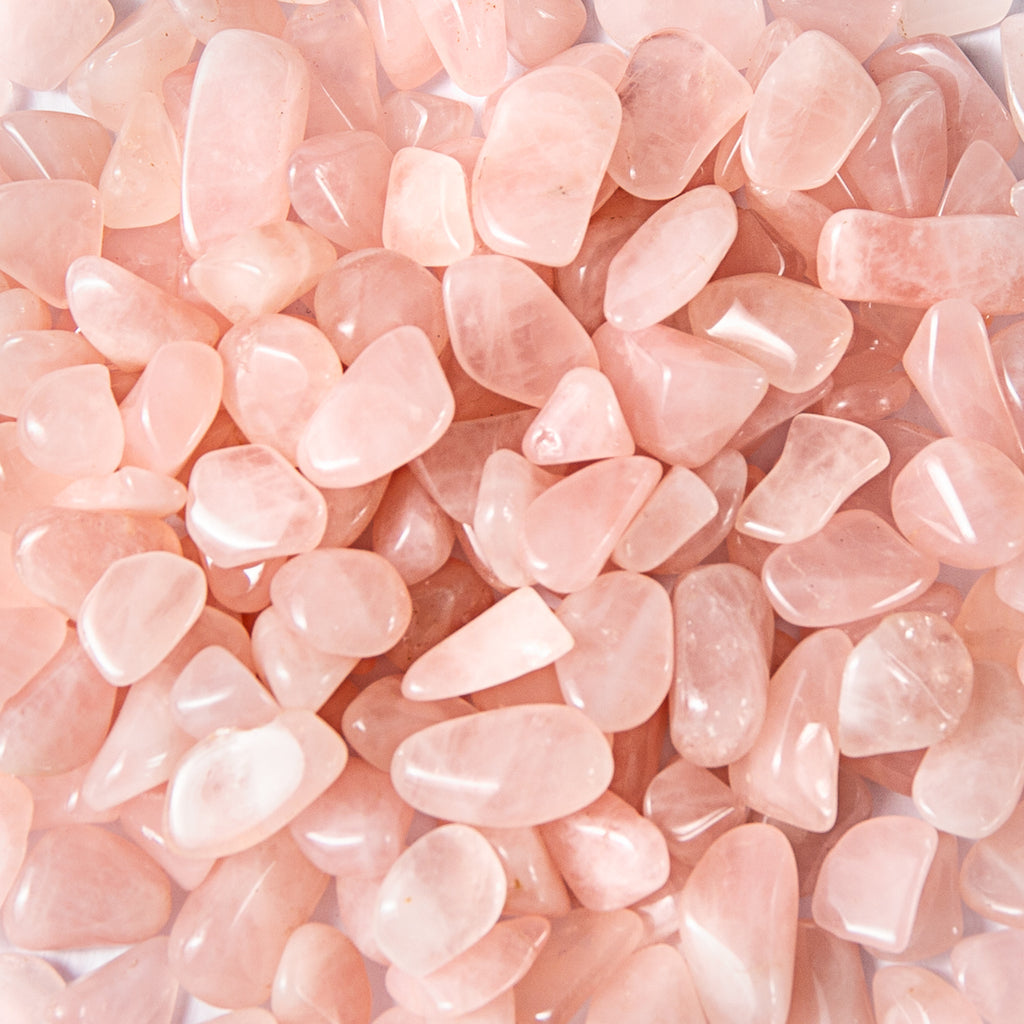Rose_Quartz: (1, 33, 1024, 994)
